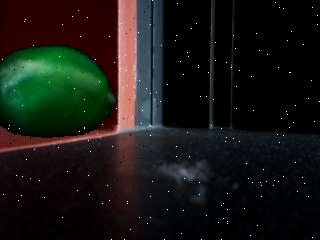Lime: (0, 46, 118, 140)
